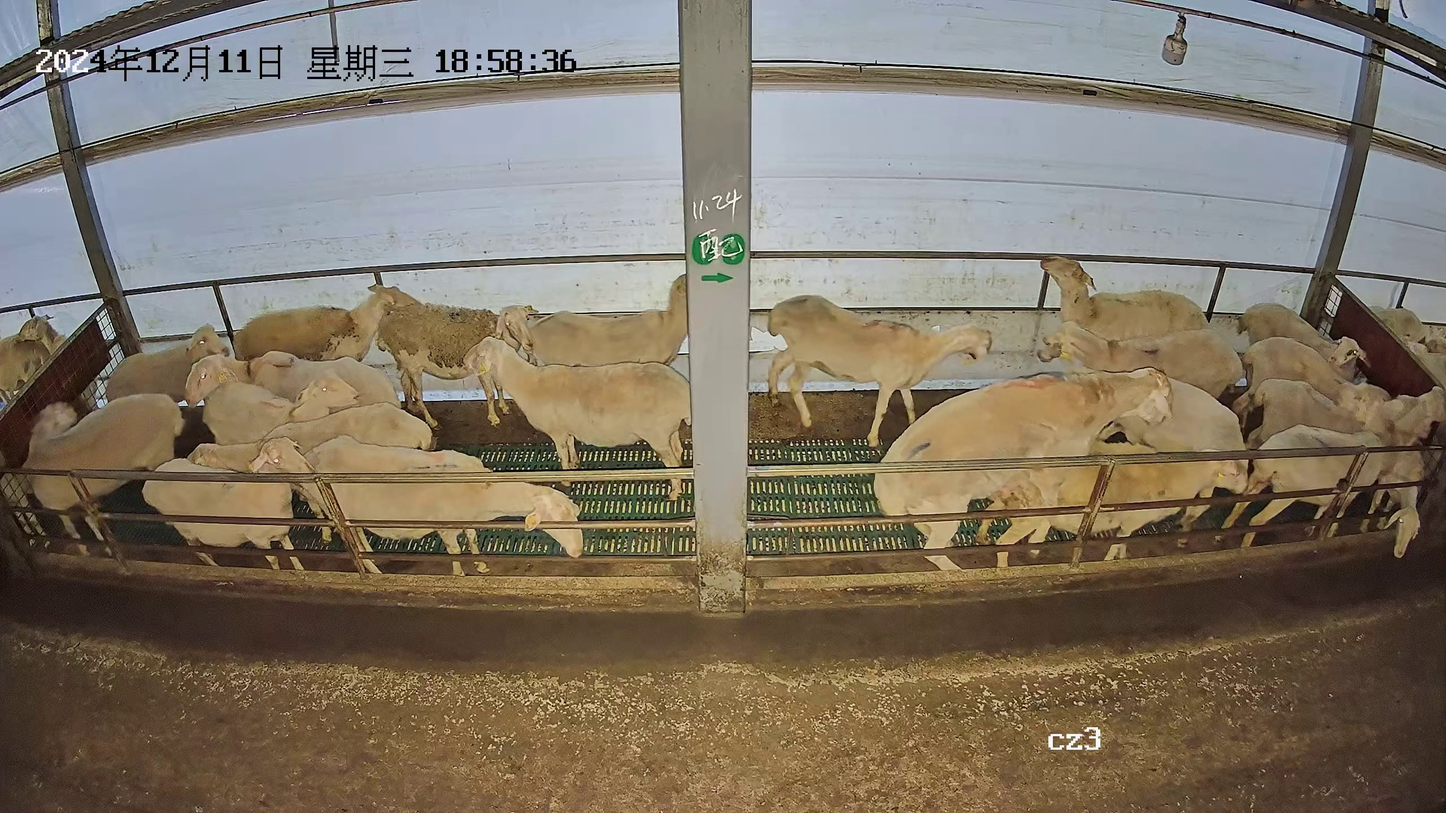Smounting: (873, 366, 1252, 570)
mounted: (974, 438, 1249, 567)
